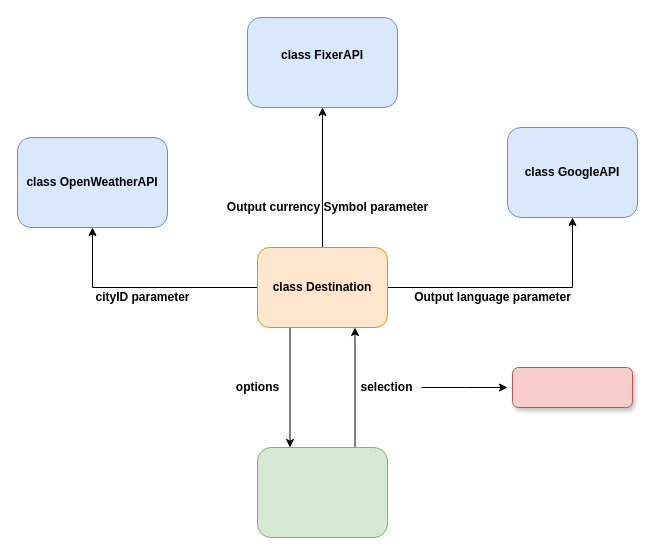
The diagram is 656 pixels wide and 555 high, and some of its shapes have lost their labels. Here are the shapes that lost their labels. From the top down, the centre of each, then its label:
the point at 573,388: UserDefaults
the point at 322,492: Destination VC
